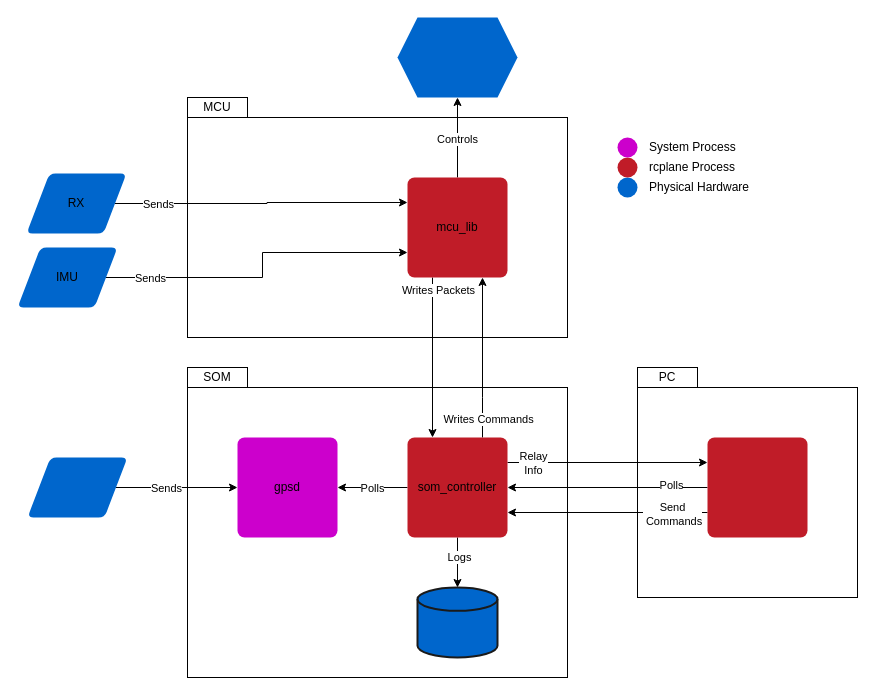
Some shapes in this 875 by 695 pixel diagram are drawn without their labels. Here are the shapes that lost their labels. From the top down, the box of each, then its label:
(397, 17, 517, 97): <<hardware>>
(27, 457, 127, 517): GNSS
(707, 437, 807, 537): flight_deck
(416, 586, 498, 658): Disk
